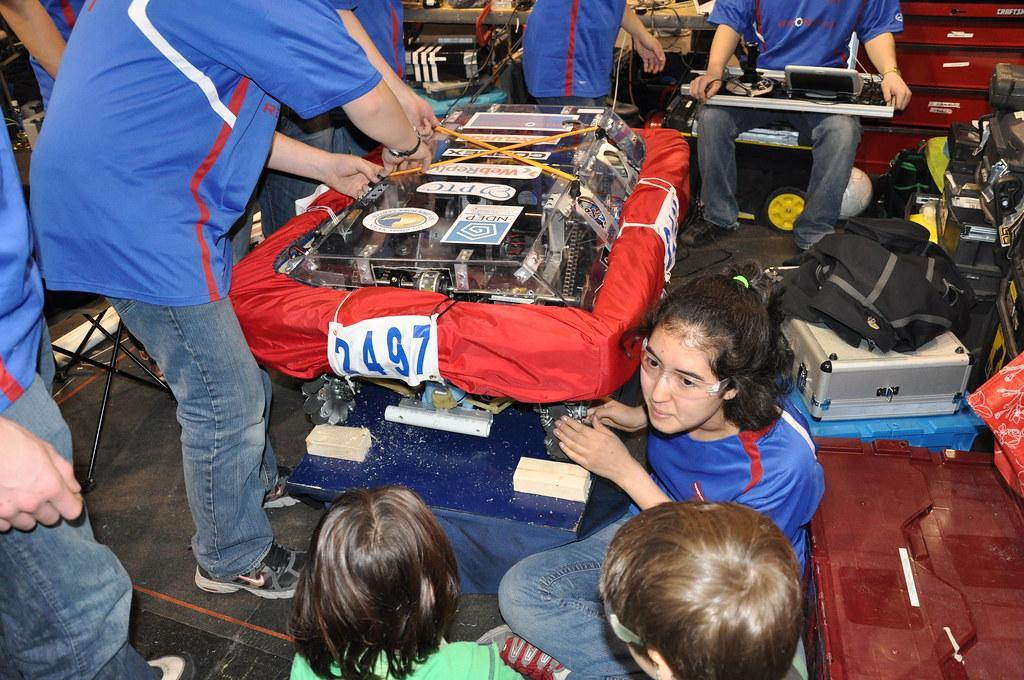robot: (224, 84, 696, 416)
